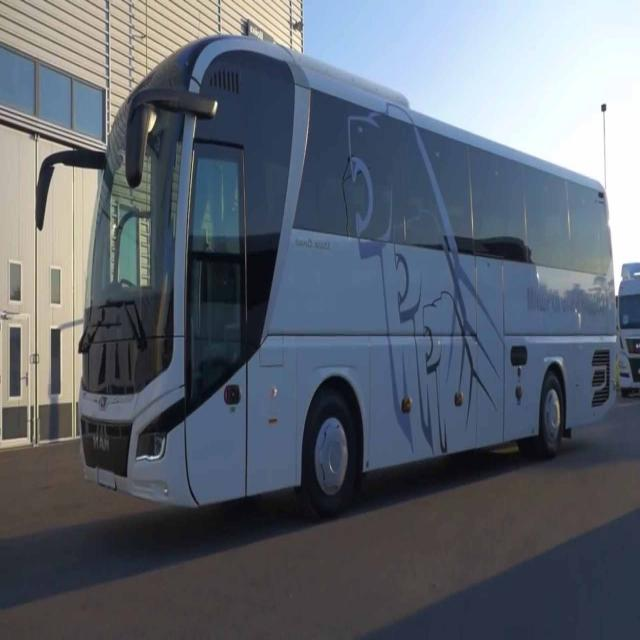bus: (36, 30, 622, 519)
